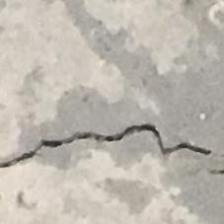Crack: (0, 95, 224, 183)
